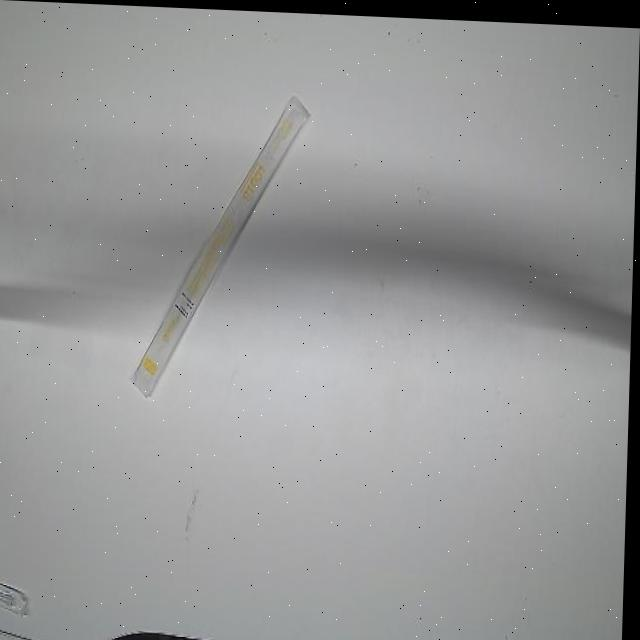Serelogical Pipet 1 mL - Sealed: (131, 84, 313, 400)
